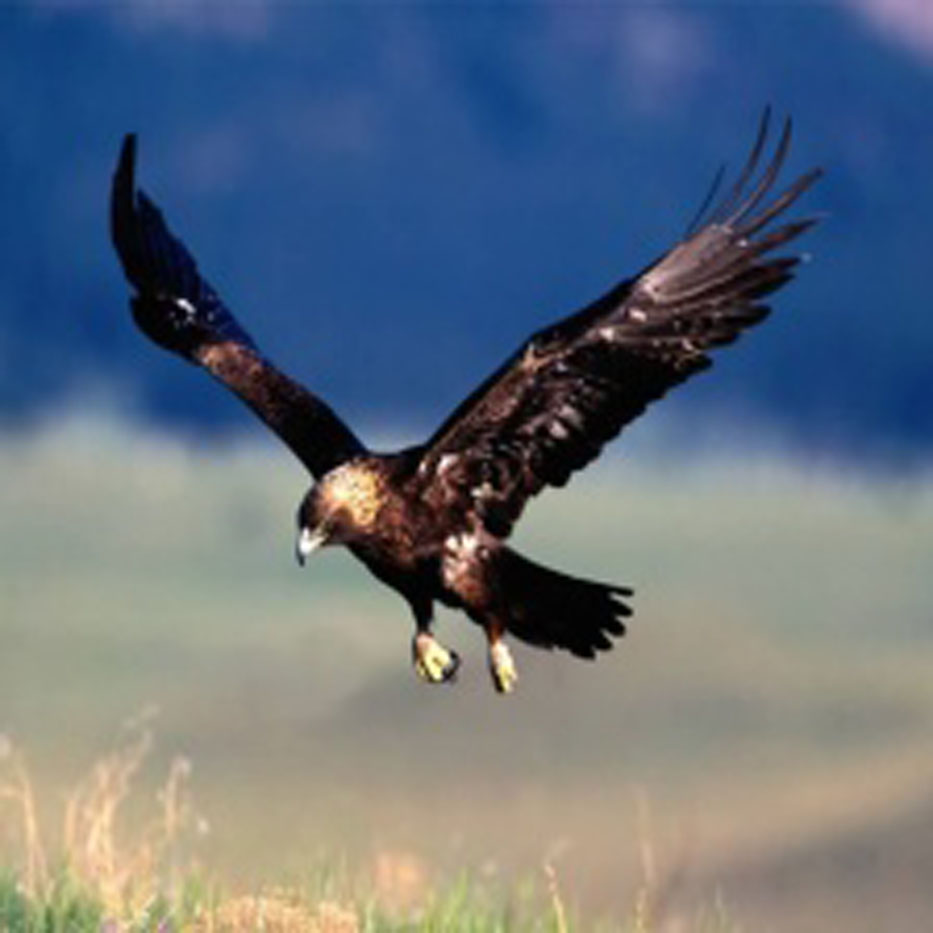Pengoyak Daging: (288, 534, 326, 573)
